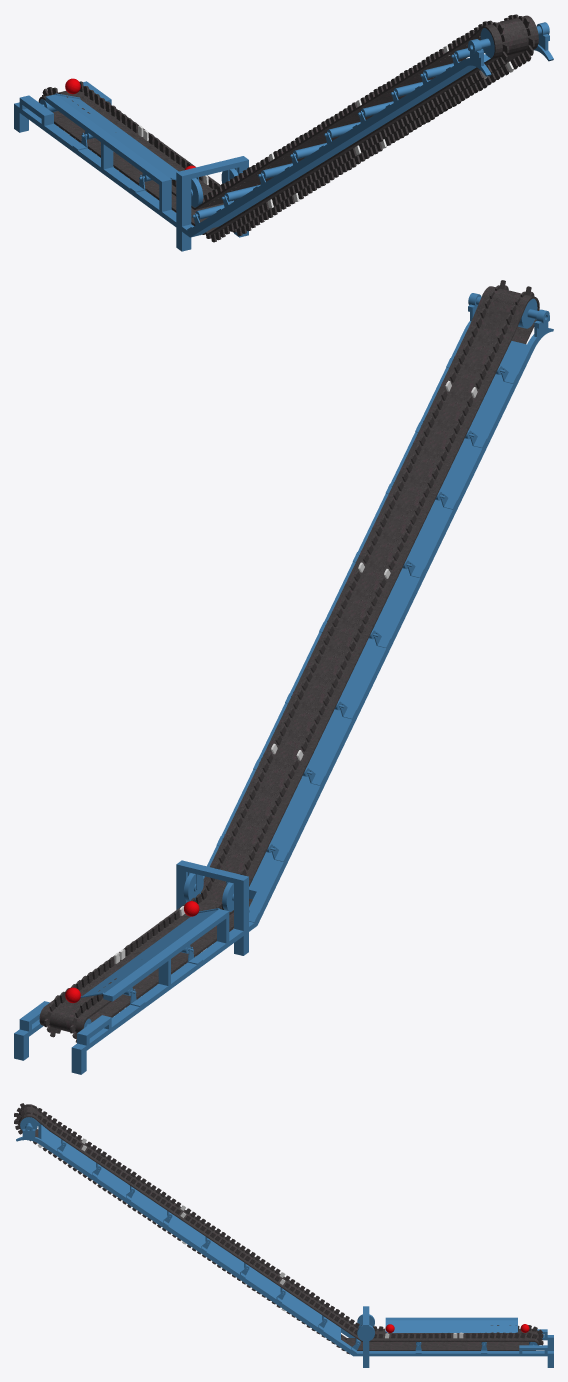
File: 皮带机.glb
3 views of the same model, one above another, from view 1: azimuth 30°, elevation 25°; view 2: azimuth 150°, elevation 25°; view 3: azimuth 270°, elevation 25° (orthographic). The views are drawn at different scales.
Parts seen in each view (by area): view 1: 皮带机机械, 皮带机皮带; view 2: 皮带机机械, 皮带机皮带; view 3: 皮带机机械, 皮带机皮带.
Part boxes in pixels (left/top/right/bottom): 皮带机机械: left=14, top=22, right=553, bottom=251; 皮带机皮带: left=38, top=15, right=538, bottom=235; 皮带机机械: left=14, top=293, right=553, bottom=1074; 皮带机皮带: left=39, top=286, right=539, bottom=1032; 皮带机机械: left=16, top=1117, right=553, bottom=1367; 皮带机皮带: left=19, top=1104, right=539, bottom=1350.
Size of the model in its own units: 0.78 by 4.4 by 8.56.
Materials: 5 (2 with a texture image).
